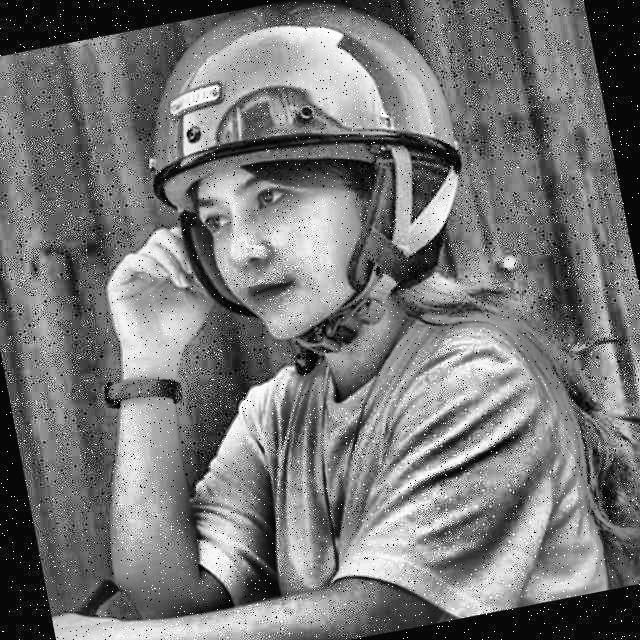Helmet: (112, 0, 516, 403)
